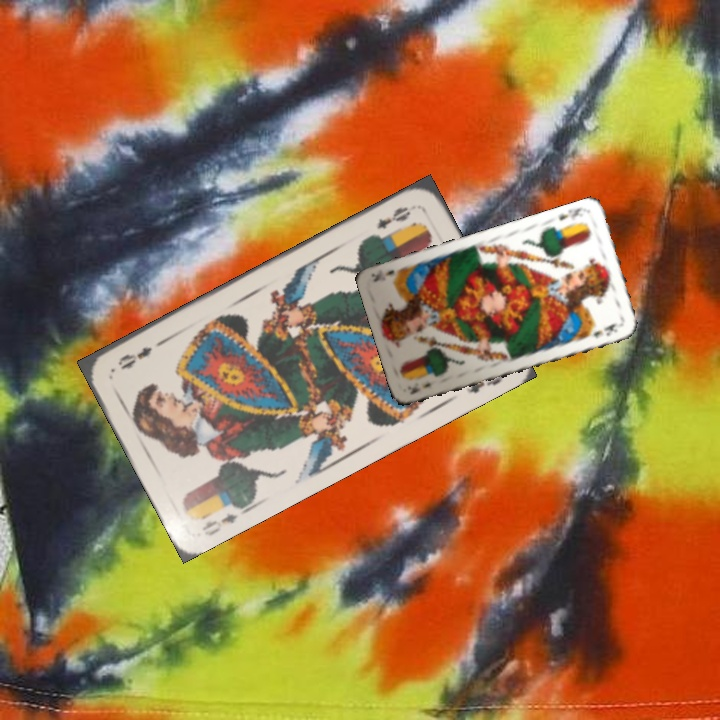EK: (555, 203, 589, 223), (405, 378, 434, 397)
EO: (197, 498, 251, 539), (372, 202, 413, 232)
